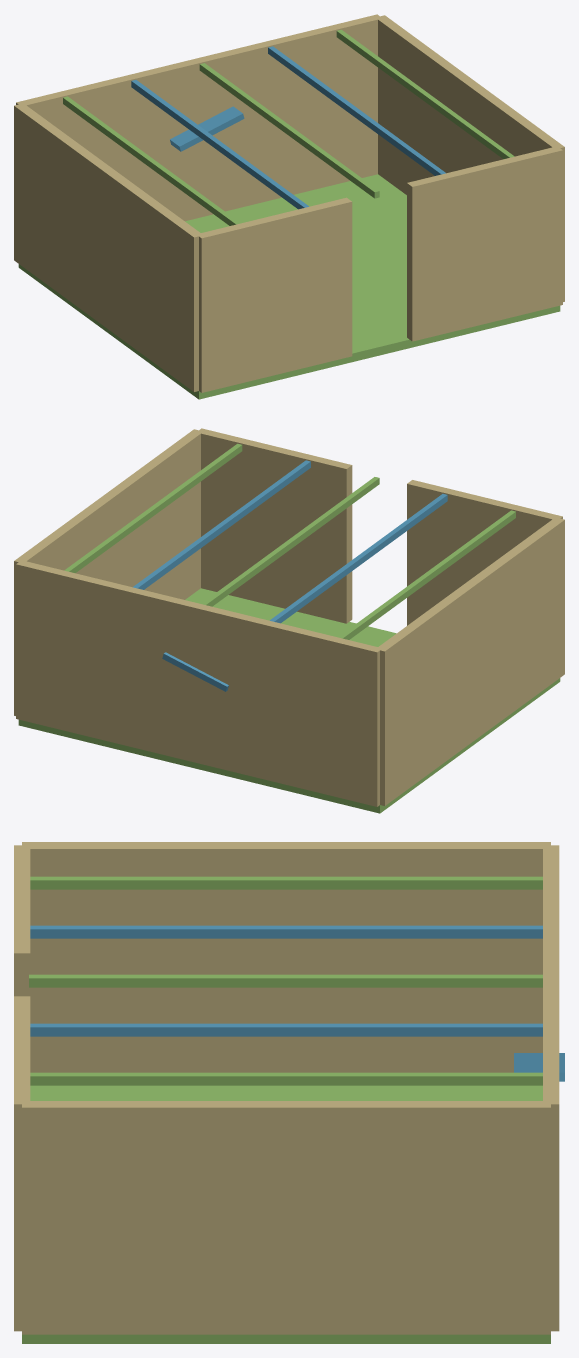
Rendered from cloud_station.glb.
The picture shows the model from 3 angles, top to bottom: view 1: azimuth 30°, elevation 25°; view 2: azimuth 150°, elevation 25°; view 3: azimuth 270°, elevation 25°; orthographic projection. The views are drawn at different scales.
Visible parts, largest first — view 1: wall_north, wall_west, wall_south_right, wall_south_left, wall_east, floor, ceiling_beam_0, ceiling_beam_2, ceiling_beam_-1, ceiling_beam_1, ceiling_beam_-2, purpose_cloud_observatory; view 2: wall_north, wall_west, wall_south_right, wall_east, wall_south_left, floor, ceiling_beam_0, ceiling_beam_2, ceiling_beam_-1, ceiling_beam_1, ceiling_beam_-2, purpose_cloud_observatory; view 3: wall_east, wall_west, floor, ceiling_beam_0, ceiling_beam_-2, ceiling_beam_-1, ceiling_beam_1, ceiling_beam_2, wall_north, wall_south_right, wall_south_left, purpose_cloud_observatory.
Boxes of the visible parts, bbox=[...] form: wall_north: bbox=[16, 14, 382, 221]; wall_west: bbox=[14, 104, 203, 391]; wall_south_right: bbox=[407, 146, 562, 341]; wall_south_left: bbox=[199, 197, 352, 392]; wall_east: bbox=[377, 15, 564, 301]; floor: bbox=[18, 174, 560, 399]; ceiling_beam_0: bbox=[199, 63, 379, 198]; ceiling_beam_2: bbox=[336, 29, 514, 159]; ceiling_beam_-1: bbox=[131, 80, 308, 209]; ceiling_beam_1: bbox=[268, 46, 445, 175]; ceiling_beam_-2: bbox=[63, 96, 240, 225]; purpose_cloud_observatory: bbox=[170, 106, 244, 151]; wall_north: bbox=[16, 561, 382, 806]; wall_west: bbox=[376, 517, 564, 805]; wall_south_right: bbox=[197, 428, 352, 623]; wall_east: bbox=[14, 429, 203, 715]; wall_south_left: bbox=[407, 480, 562, 625]; floor: bbox=[18, 588, 560, 813]; ceiling_beam_0: bbox=[201, 477, 379, 606]; ceiling_beam_2: bbox=[64, 443, 242, 573]; ceiling_beam_-1: bbox=[270, 494, 447, 623]; ceiling_beam_1: bbox=[133, 460, 310, 589]; ceiling_beam_-2: bbox=[338, 510, 515, 639]; purpose_cloud_observatory: bbox=[162, 652, 228, 691]; wall_east: bbox=[22, 1101, 550, 1334]; wall_west: bbox=[22, 842, 550, 1072]; floor: bbox=[22, 1085, 550, 1343]; ceiling_beam_0: bbox=[29, 974, 542, 987]; ceiling_beam_-2: bbox=[30, 876, 542, 889]; ceiling_beam_-1: bbox=[30, 925, 542, 938]; ceiling_beam_1: bbox=[30, 1023, 542, 1036]; ceiling_beam_2: bbox=[30, 1072, 542, 1085]; wall_north: bbox=[543, 845, 559, 1331]; wall_south_right: bbox=[14, 996, 30, 1331]; wall_south_left: bbox=[14, 845, 30, 996]; purpose_cloud_observatory: bbox=[514, 1053, 564, 1081].
Size of what is drawn, in the model's own units: 13.55 by 5.7 by 11.88.
